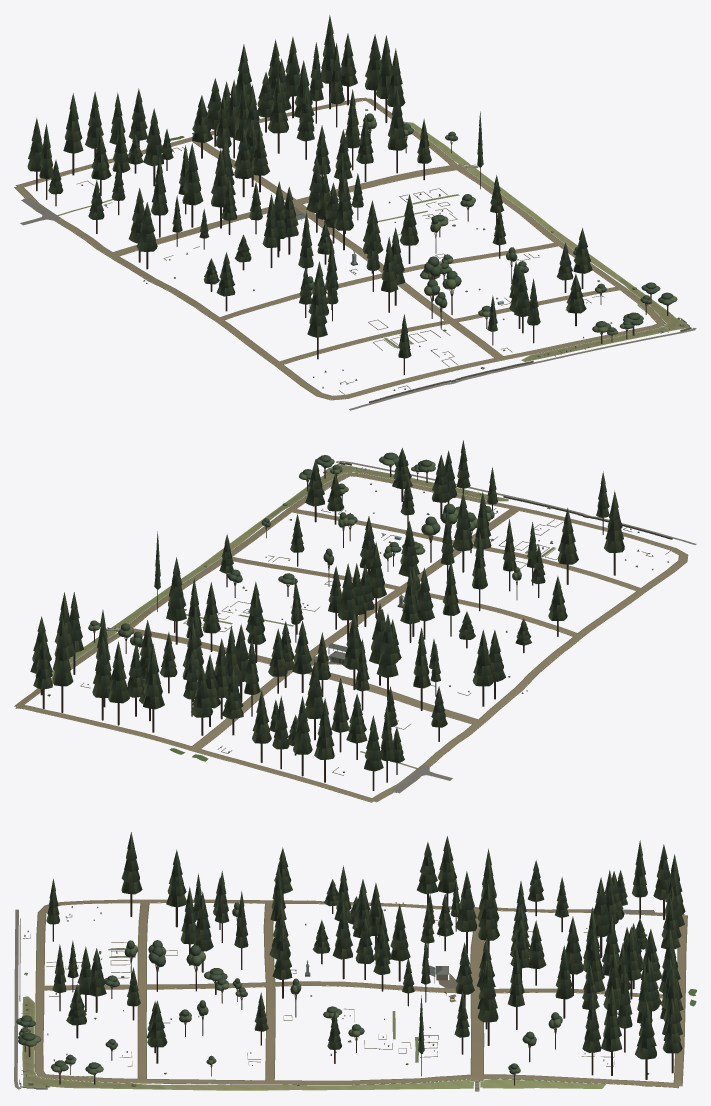
File: site.glb
3 views of the same model, one above another, from view 1: azimuth 30°, elevation 25°; view 2: azimuth 150°, elevation 25°; view 3: azimuth 270°, elevation 25° (orthographic). The views are drawn at different scales.
Parts seen in each view (by area): view 1: pioneer-cemetery-canopy, pioneer-cemetery-paving, pioneer-cemetery-monuments; view 2: pioneer-cemetery-canopy, pioneer-cemetery-paving, pioneer-cemetery-monuments; view 3: pioneer-cemetery-canopy, pioneer-cemetery-paving, pioneer-cemetery-monuments.
Boxes of the visible parts, x1,y1,x2,y2 form: pioneer-cemetery-canopy: [27, 15, 677, 374]; pioneer-cemetery-paving: [14, 97, 696, 410]; pioneer-cemetery-monuments: [76, 109, 691, 402]; pioneer-cemetery-canopy: [30, 440, 624, 790]; pioneer-cemetery-paving: [14, 461, 696, 802]; pioneer-cemetery-monuments: [47, 462, 672, 775]; pioneer-cemetery-canopy: [16, 832, 685, 1085]; pioneer-cemetery-paving: [14, 899, 696, 1090]; pioneer-cemetery-monuments: [19, 902, 649, 1090].
Bounding box in the file's own units: 219 × 53.7 × 315.
